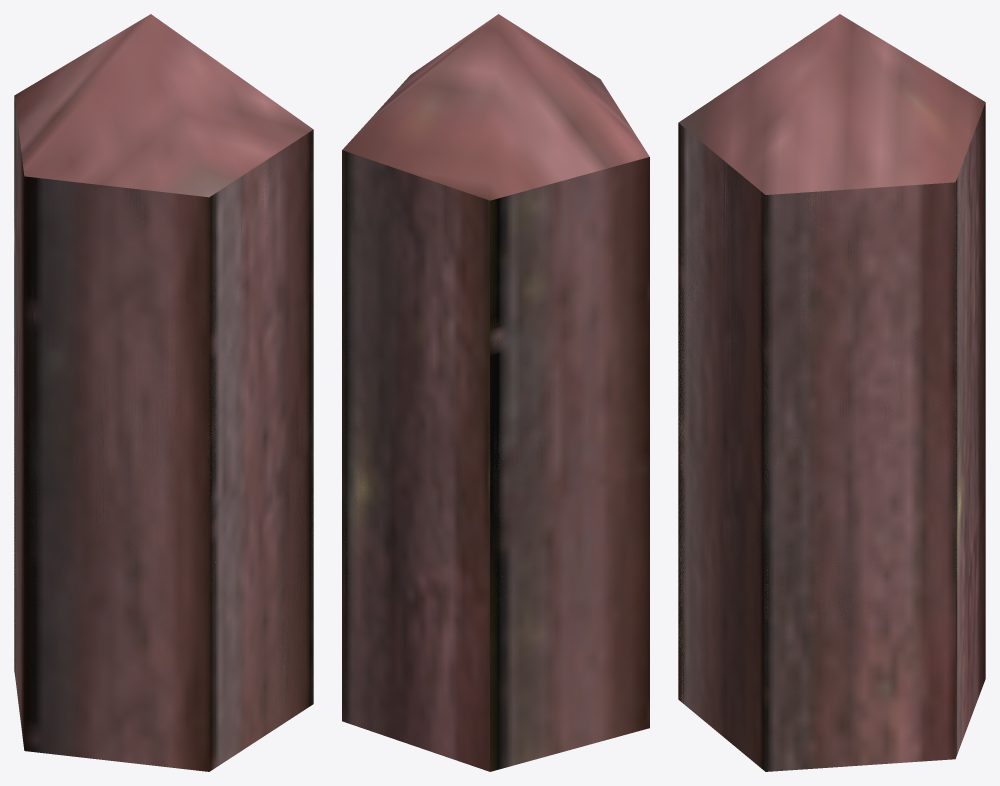
Rendered from Pillars.fbx.
3 renders of one model, left to right at view 1: azimuth 30°, elevation 25°; view 2: azimuth 150°, elevation 25°; view 3: azimuth 270°, elevation 25°, orthographic.
Visible parts, largest first — view 1: Cylinder003, Object006; view 2: Cylinder003, Object006; view 3: Cylinder003, Object006.
Boxes of the visible parts, <box> form: Cylinder003: <box>14,14,313,771</box>; Object006: <box>14,97,313,746</box>; Cylinder003: <box>342,14,649,771</box>; Object006: <box>342,152,649,746</box>; Cylinder003: <box>678,14,985,771</box>; Object006: <box>678,105,985,745</box>.
Bounding box in the file's own units: 86.9 × 86.9 × 217.
